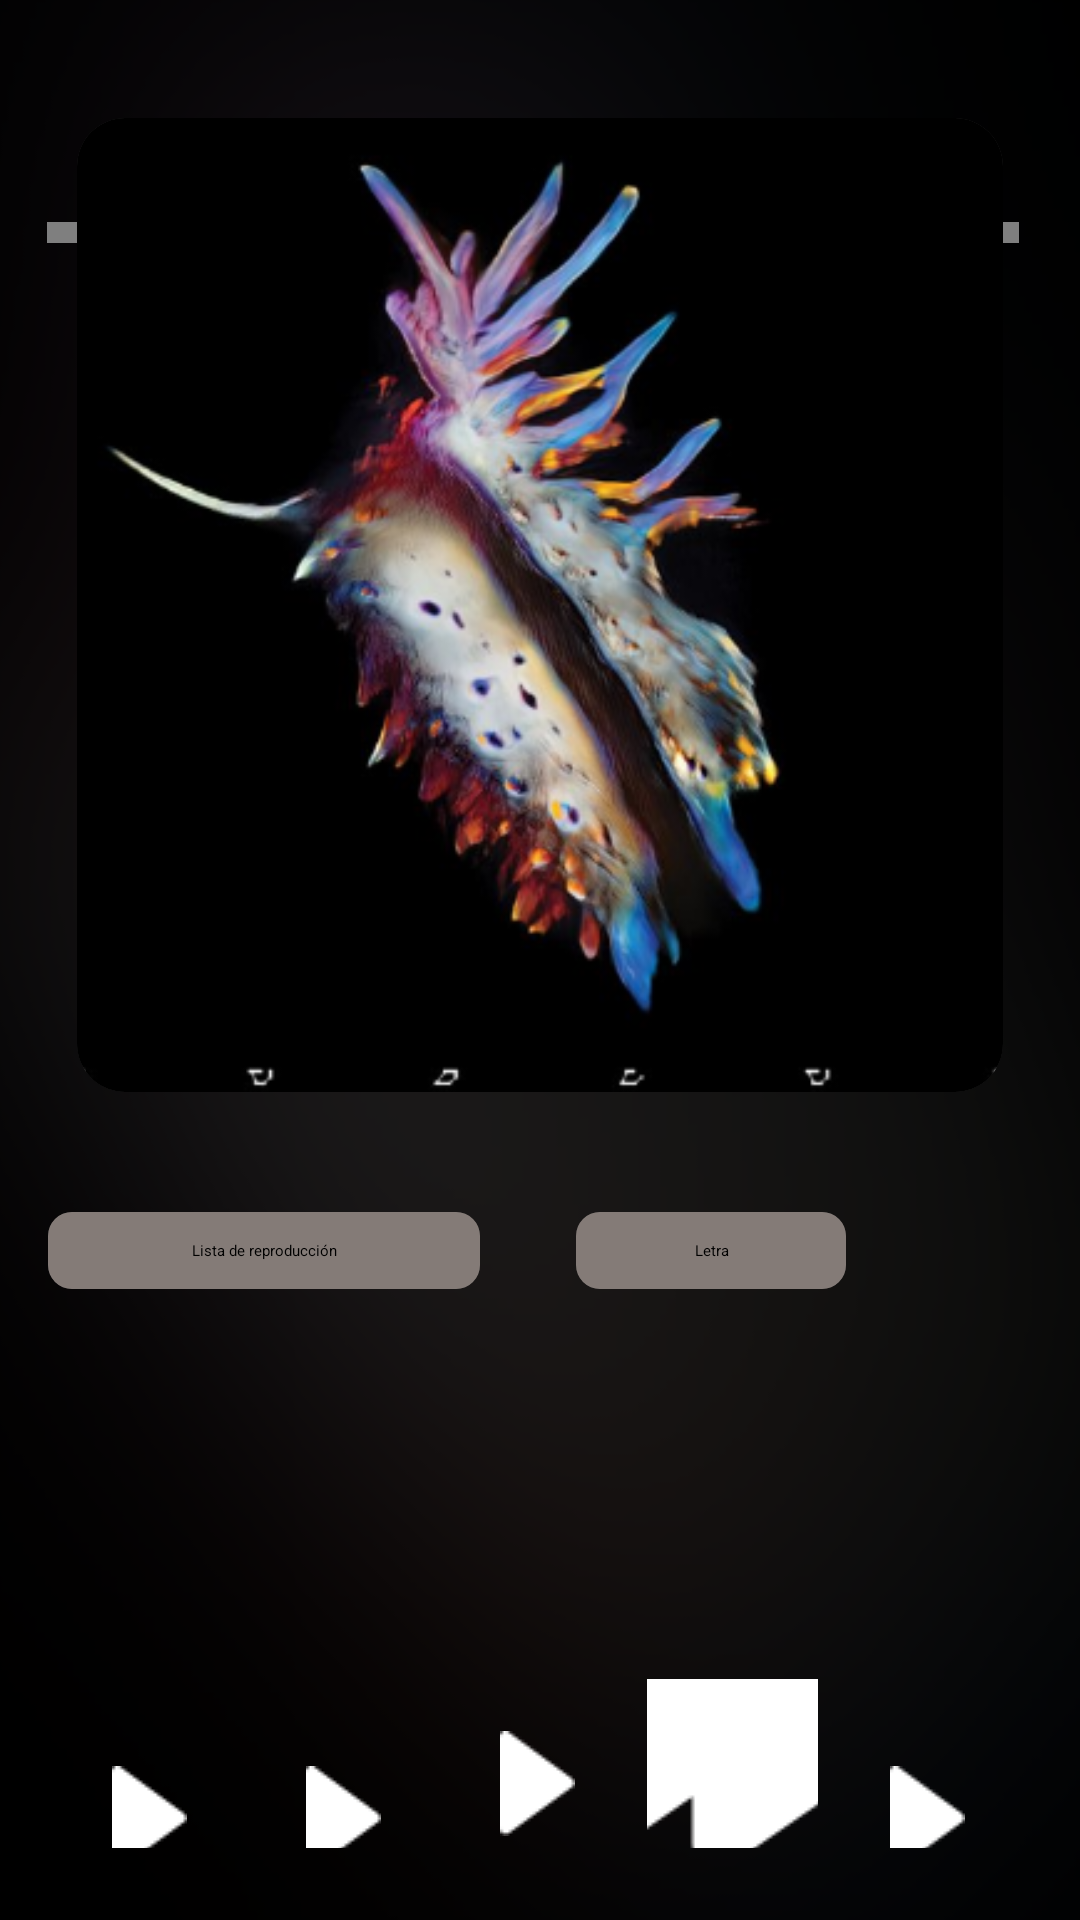

Where to tap for icons on this 1080 x 1920 app screen, as (x=x, y=y):
player control play: (x=537, y=1783)
